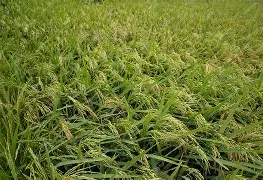crops: (0, 0, 260, 177), (184, 58, 262, 119), (77, 0, 165, 48), (145, 114, 214, 175), (0, 85, 42, 177), (56, 141, 155, 179), (102, 44, 179, 92), (46, 38, 104, 89), (59, 84, 127, 125), (214, 114, 263, 164), (142, 0, 252, 21), (0, 0, 53, 42), (139, 81, 195, 118), (107, 109, 143, 140), (240, 1, 258, 18)
